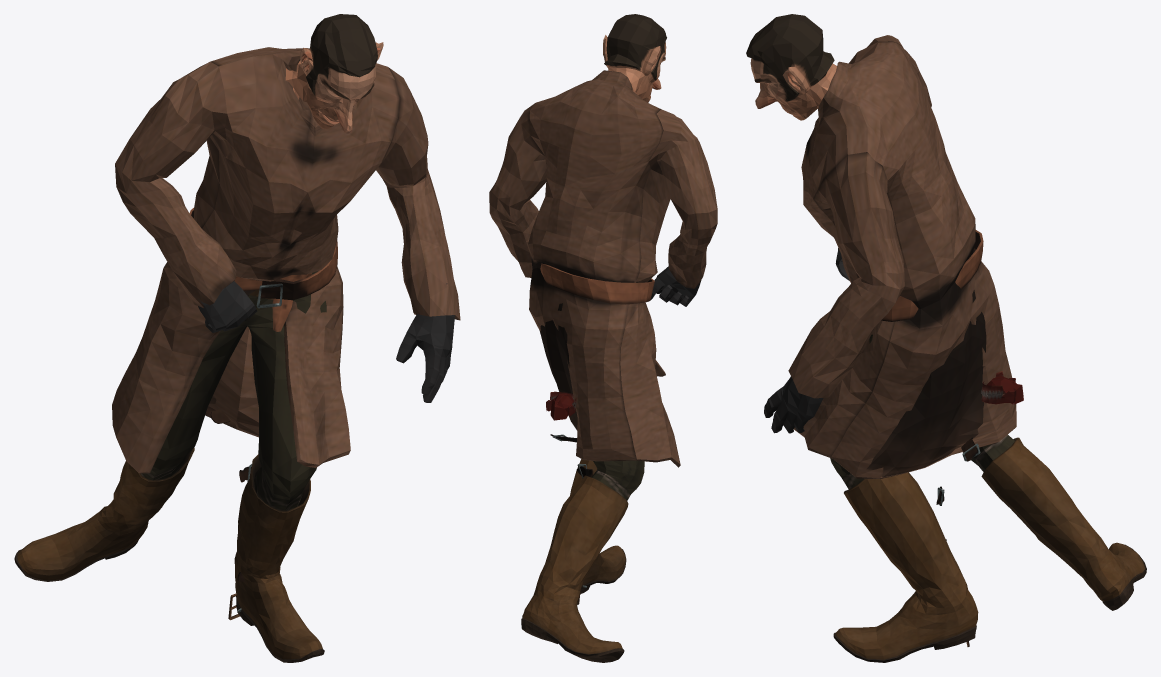
File: sniper-inj-walk_joined_000020.obj
3 views of the same model, side by side, from view 1: azimuth 30°, elevation 25°; view 2: azimuth 150°, elevation 25°; view 3: azimuth 270°, elevation 25° (orthographic). The views are drawn at different scales.
Visible parts, largest first — view 1: Shoes; view 2: Shoes; view 3: Shoes.
Boxes of the visible parts, box(x1,y1,x2,y2) form: Shoes: box(14, 14, 460, 662); Shoes: box(489, 14, 717, 662); Shoes: box(746, 14, 1146, 662).
Bounding box in the file's own units: 1.09 × 2.35 × 1.34.
